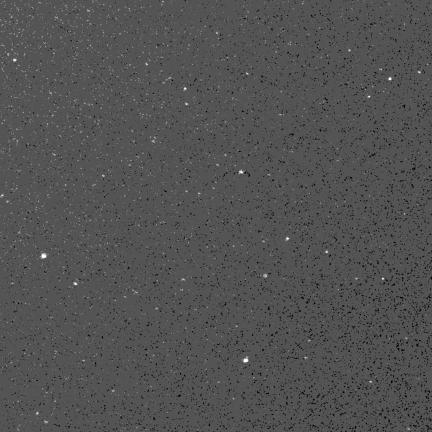blob: (41, 253, 47, 259), (243, 357, 248, 362), (239, 170, 243, 174), (263, 274, 267, 278), (389, 77, 392, 81), (286, 237, 289, 241)
